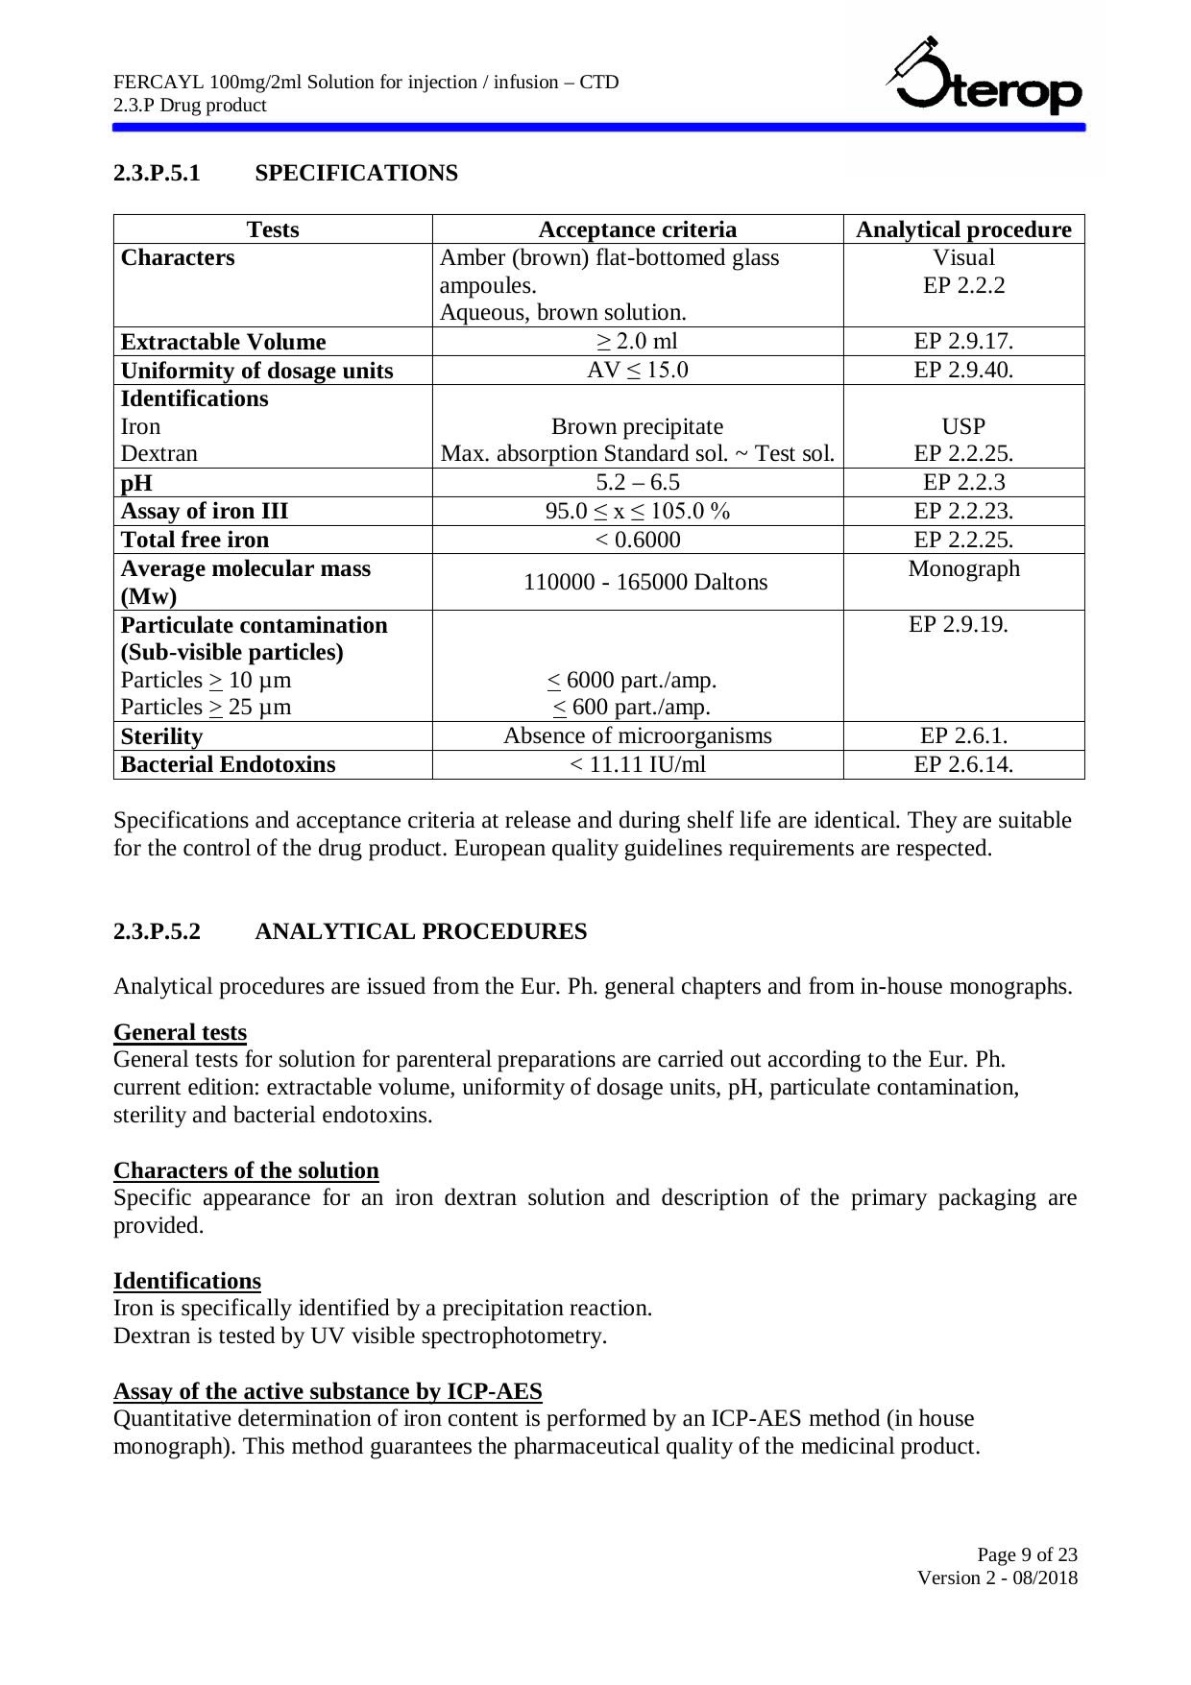full_lined: (111, 214, 1087, 781)
